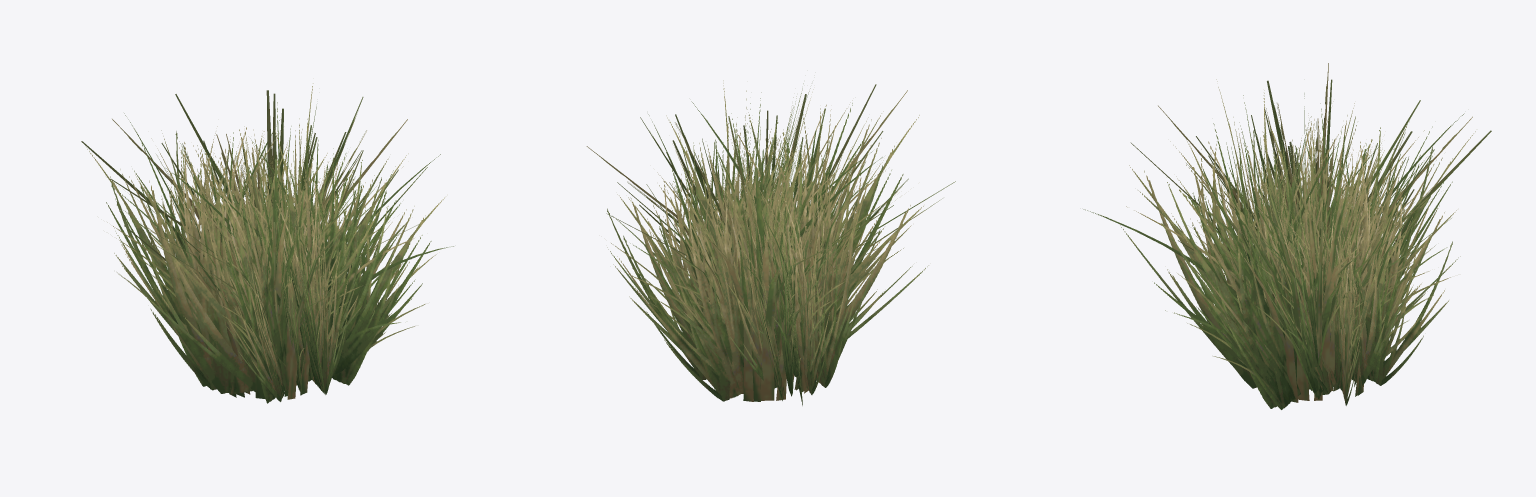
The model's file is grass_real_b.glb.
3 renders of one model, left to right at view 1: azimuth 30°, elevation 25°; view 2: azimuth 150°, elevation 25°; view 3: azimuth 270°, elevation 25°, orthographic.
Visible parts, largest first — view 1: leaves; view 2: leaves; view 3: leaves.
Boxes of the visible parts, x1,y1,x2,y2 form: leaves: (81, 83, 453, 403); leaves: (586, 80, 955, 405); leaves: (1083, 63, 1491, 409).
Bounding box in the file's own units: 0.7267 × 0.6306 × 0.7643.
Materials: 1 (1 with a texture image).
